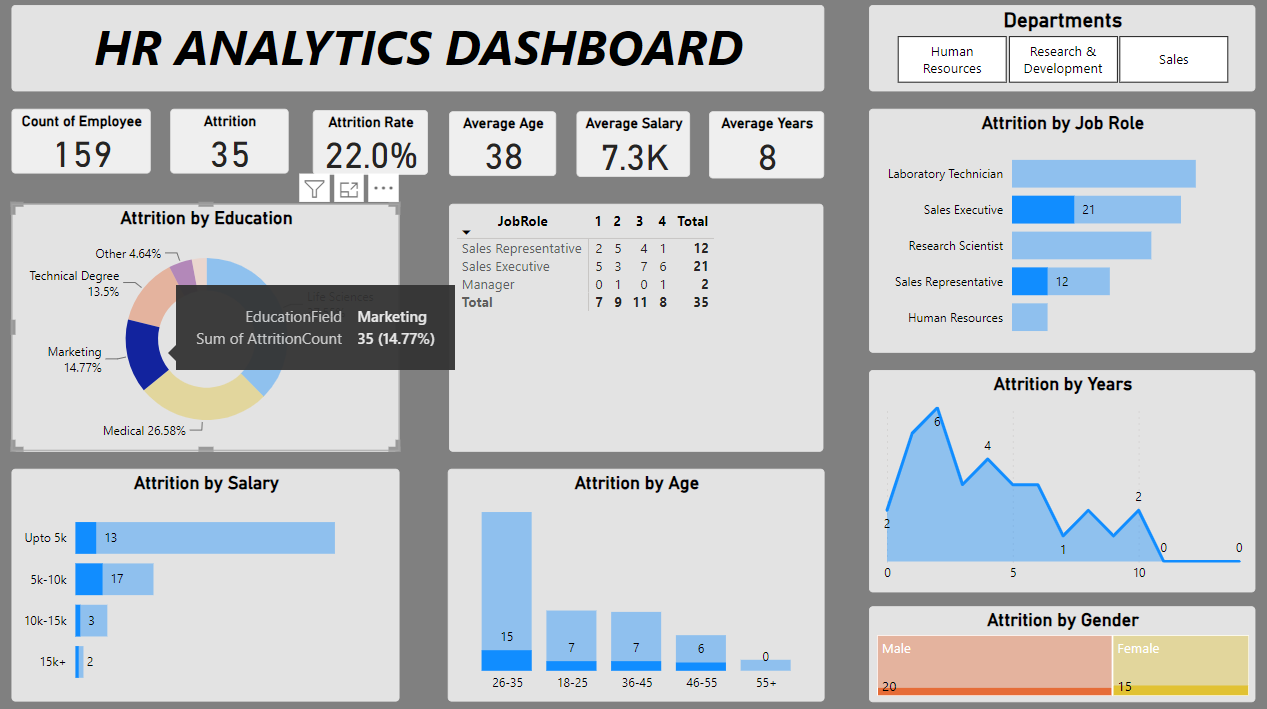

The dashboard page shown, as its layout file describes it:
{"tool":"powerbi","page":{"name":"Page 1","canvas":[1280,720],"ordinal":0},"visuals":[{"type":"card","title":"Count of Employee","fields":{"Values":["CountNonNull(HR_Analytics.EmpID)"]},"box":[17,113.8,139.4,64.9],"z":0},{"type":"card","title":"Attrition","fields":{"Values":["Sum(HR_Analytics.AttritionCount)"]},"box":[176.6,113.8,118.1,64.9],"z":1000},{"type":"card","title":"Attrition Rate","fields":{"Values":["HR_Analytics.AttritionRate"]},"box":[319.1,114.9,114.9,64.9],"z":2000},{"type":"card","title":"Average Age ","fields":{"Values":["Avg(HR_Analytics.Age)"]},"box":[455.3,116,107.4,64.9],"z":3000},{"type":"card","title":"Average Salary","fields":{"Values":["Avg(HR_Analytics.MonthlyIncome)"]},"box":[583,116,113.8,66],"z":4000},{"type":"card","title":"Average Years ","fields":{"Values":["Avg(HR_Analytics.YearsAtCompany)"]},"box":[714.9,116,114.9,67],"z":5000},{"type":"donutChart","title":"Attrition by Education","fields":{"Category":["HR_Analytics.EducationField"],"Y":["Sum(HR_Analytics.AttritionCount)"]},"box":[17,208.5,388.3,247.9],"z":6000},{"type":"columnChart","title":"Attrition by Age","fields":{"Category":["HR_Analytics.AgeGroup"],"Y":["Sum(HR_Analytics.AttritionCount)"]},"box":[453.2,473.4,376.6,233],"z":7000},{"type":"pivotTable","fields":{"Rows":["HR_Analytics.JobRole"],"Columns":["HR_Analytics.JobSatisfaction"],"Values":["Sum(HR_Analytics.AttritionCount)"]},"box":[455.3,208.5,374.5,247.9],"z":8000},{"type":"barChart","title":"Attrition by Salary","fields":{"Category":["HR_Analytics.SalarySlab"],"Y":["Sum(HR_Analytics.AttritionCount)"]},"box":[17,473.4,388.3,233],"z":9000},{"type":"barChart","title":"Attrition by Job Role","fields":{"Category":["HR_Analytics.JobRole"],"Y":["Sum(HR_Analytics.AttritionCount)"]},"box":[875.5,113.8,386.2,243.6],"z":10000},{"type":"areaChart","title":"Attrition by Years","fields":{"Category":["HR_Analytics.YearsAtCompany"],"Y":["Sum(HR_Analytics.AttritionCount)"]},"box":[875,375,386.2,222.5],"z":11000},{"type":"treemap","title":"Attrition by Gender","fields":{"Group":["HR_Analytics.Gender"],"Values":["Sum(HR_Analytics.AttritionCount)"]},"box":[875.5,610.6,386.2,95.7],"z":12000},{"type":"slicer","title":"Departments","fields":{"Values":["HR_Analytics.Department"]},"box":[875.5,9.6,386.2,86.2],"z":13000},{"type":"textbox","box":[17,9.6,812.8,86.2],"z":14000}]}

Visuals, with their boxes in screenshot pixels (x1, y1, x2, y2), scaled from the page's 1280x720 canvas onto the 1267x709 screenshot:
"Count of Employee" card: {"left": 17, "top": 112, "right": 155, "bottom": 176}
"Attrition" card: {"left": 175, "top": 112, "right": 292, "bottom": 176}
"Attrition Rate" card: {"left": 316, "top": 113, "right": 430, "bottom": 177}
"Average Age " card: {"left": 451, "top": 114, "right": 557, "bottom": 178}
"Average Salary" card: {"left": 577, "top": 114, "right": 690, "bottom": 179}
"Average Years " card: {"left": 708, "top": 114, "right": 821, "bottom": 180}
"Attrition by Education" donutChart: {"left": 17, "top": 205, "right": 401, "bottom": 449}
"Attrition by Age" columnChart: {"left": 449, "top": 466, "right": 821, "bottom": 696}
pivotTable - HR_Analytics.JobRole x HR_Analytics.JobSatisfaction: {"left": 451, "top": 205, "right": 821, "bottom": 449}
"Attrition by Salary" barChart: {"left": 17, "top": 466, "right": 401, "bottom": 696}
"Attrition by Job Role" barChart: {"left": 867, "top": 112, "right": 1249, "bottom": 352}
"Attrition by Years" areaChart: {"left": 866, "top": 369, "right": 1248, "bottom": 588}
"Attrition by Gender" treemap: {"left": 867, "top": 601, "right": 1249, "bottom": 696}
"Departments" slicer: {"left": 867, "top": 9, "right": 1249, "bottom": 94}
textbox: {"left": 17, "top": 9, "right": 821, "bottom": 94}
